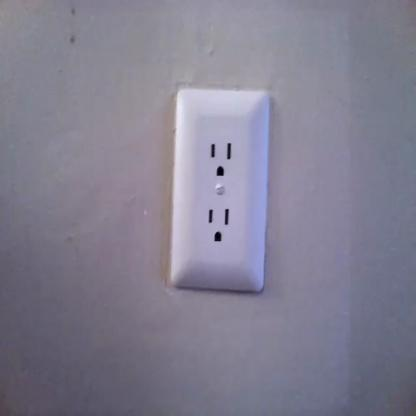OUTLET: (174, 90, 264, 290)
